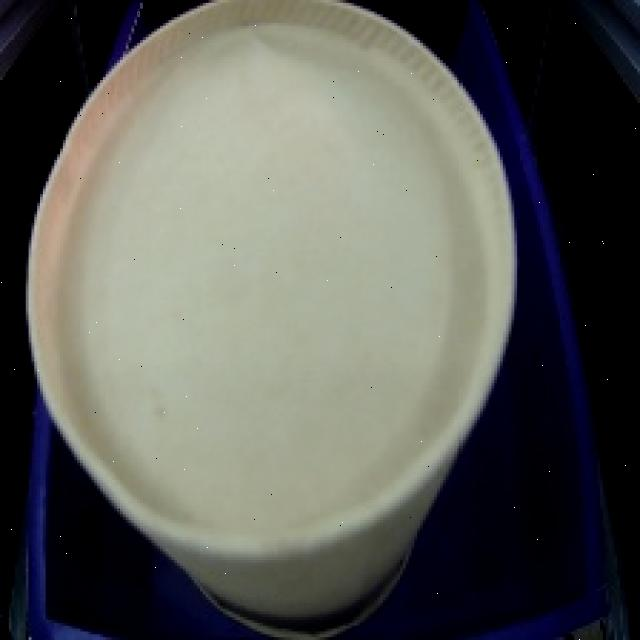cups: (14, 0, 540, 640)
